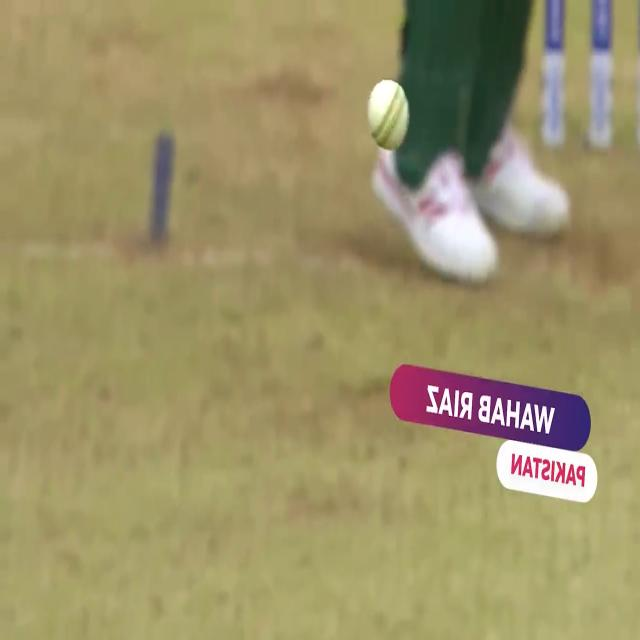ball: (354, 68, 418, 160)
